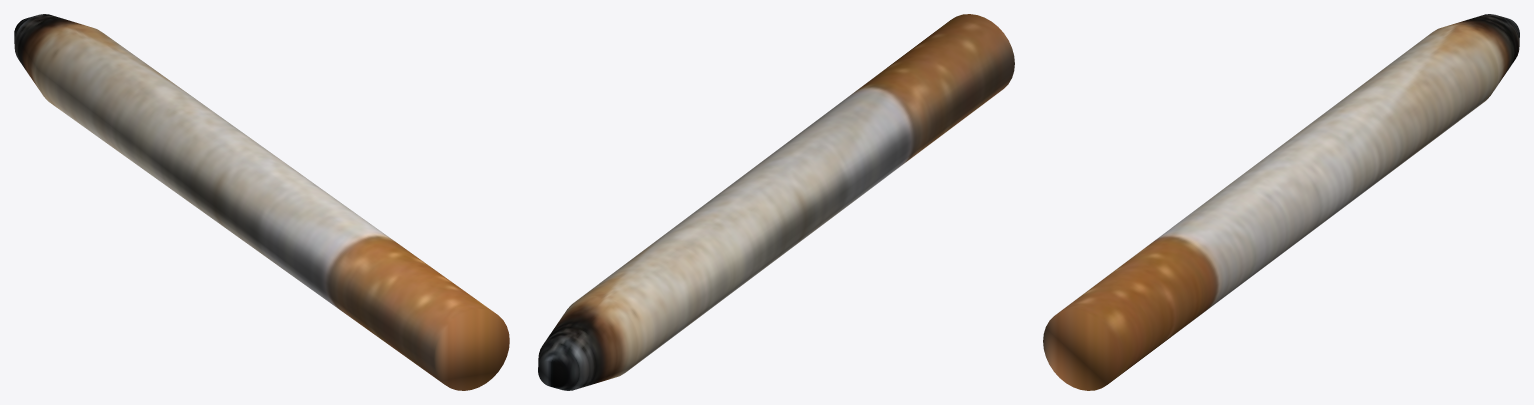
The model's file is CIGARETTE 1.fbx.
3 renders of one model, left to right at view 1: azimuth 30°, elevation 25°; view 2: azimuth 150°, elevation 25°; view 3: azimuth 330°, elevation 25°, orthographic.
Visible parts, largest first — view 1: CIGARETTE 1; view 2: CIGARETTE 1; view 3: CIGARETTE 1.
Boxes of the visible parts, <box> form: CIGARETTE 1: <box>14,14,509,390</box>; CIGARETTE 1: <box>538,14,1014,390</box>; CIGARETTE 1: <box>1043,14,1519,390</box>.
Bounding box in the file's own units: 0.0185 × 0.0169 × 0.1688.
